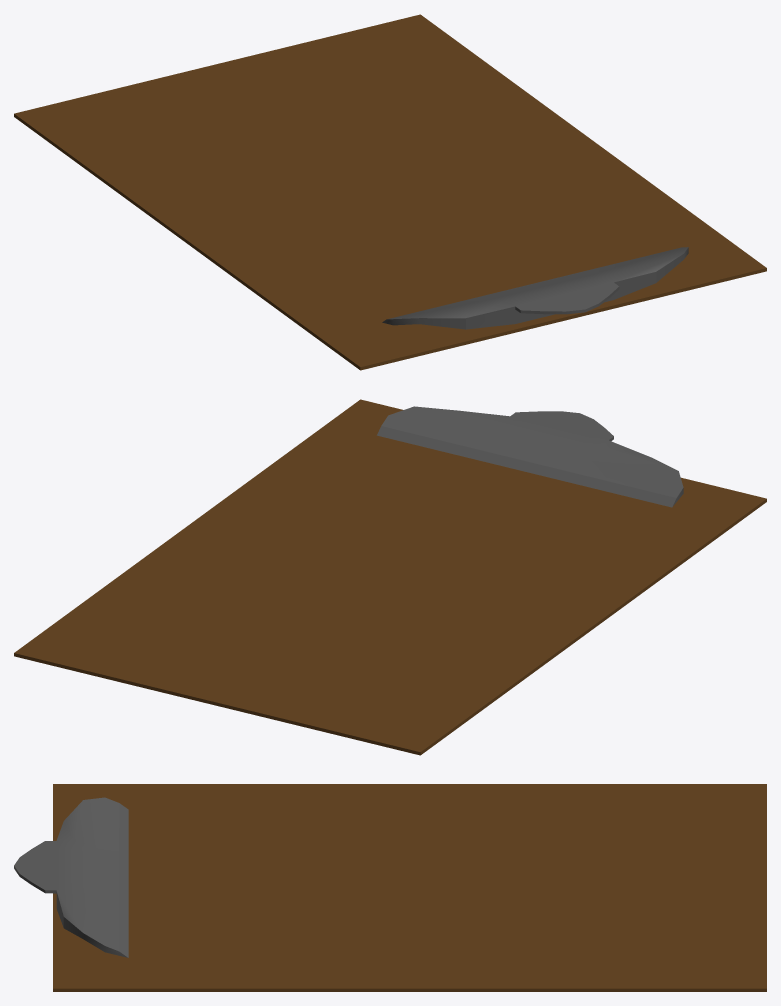
File: ClipBoard_low.FBX
The picture shows the model from 3 angles, top to bottom: view 1: azimuth 30°, elevation 25°; view 2: azimuth 150°, elevation 25°; view 3: azimuth 270°, elevation 25°; orthographic projection. The views are drawn at different scales.
Parts seen in each view (by area): view 1: ClipBoard_low; view 2: ClipBoard_low; view 3: ClipBoard_low.
Part boxes in pixels (x1,y1,x2,y2): ClipBoard_low: [14, 14, 766, 370]; ClipBoard_low: [14, 399, 766, 755]; ClipBoard_low: [14, 784, 766, 991].
Bounding box in the file's own units: 15.6 × 0.9033 × 24.28.
